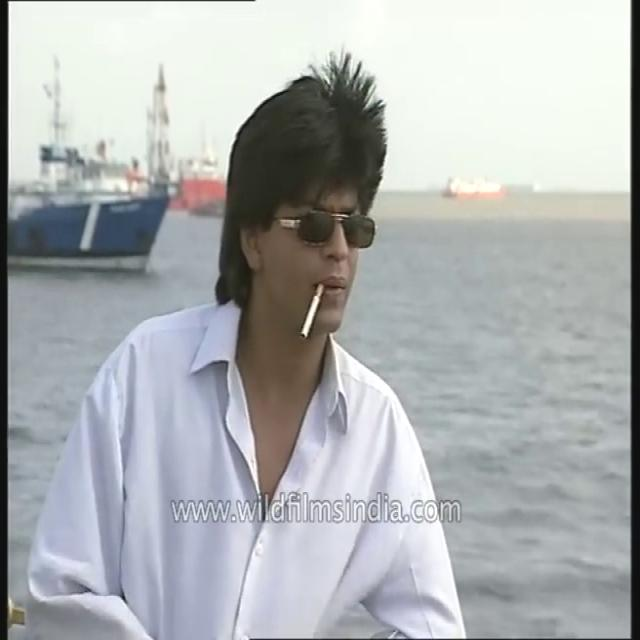Smooking: (293, 272, 332, 348)
